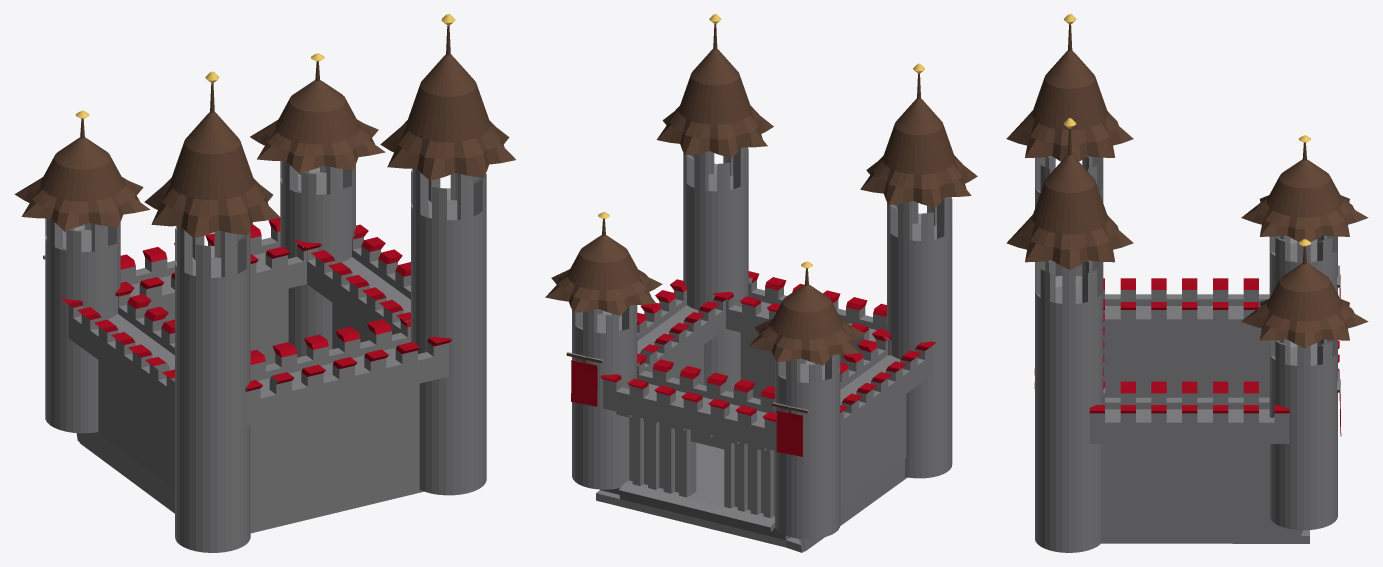
Rendered from linna.glb.
3 views of the same model, side by side, from view 1: azimuth 30°, elevation 25°; view 2: azimuth 150°, elevation 25°; view 3: azimuth 270°, elevation 25° (orthographic). The views are drawn at different scales.
Parts seen in each view (by area): view 1: Cylinder; view 2: Cylinder; view 3: Cylinder.
Boxes of the visible parts, x1,y1,x2,y2 form: Cylinder: [14, 14, 515, 552]; Cylinder: [545, 14, 977, 552]; Cylinder: [1006, 14, 1368, 552].
Size of the model in its own units: 216 by 269 by 209.
